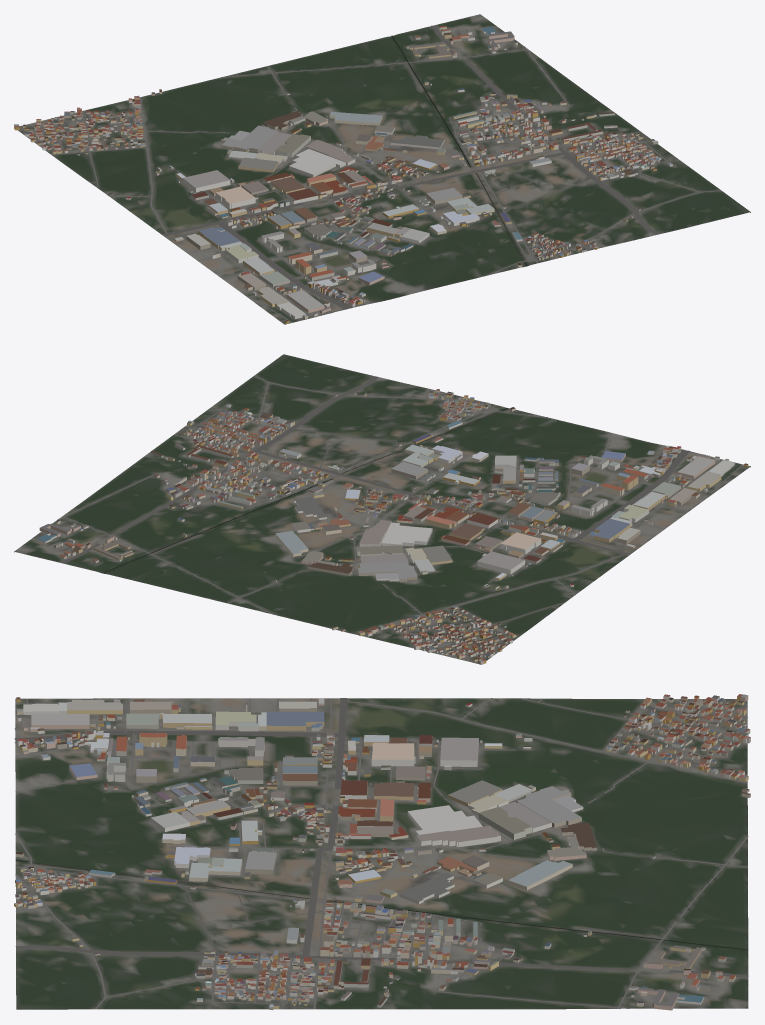
3 views of the same model, one above another, from view 1: azimuth 30°, elevation 25°; view 2: azimuth 150°, elevation 25°; view 3: azimuth 270°, elevation 25° (orthographic). The views are drawn at different scales.
Visible parts, largest first — view 1: ground, buildings, roads; view 2: ground, buildings, roads, water; view 3: ground, buildings, roads, water.
Part boxes in pixels (left/top/right/bottom): ground: left=14, top=14, right=750, bottom=324; buildings: left=14, top=25, right=672, bottom=323; roads: left=21, top=25, right=721, bottom=322; ground: left=14, top=354, right=750, bottom=664; buildings: left=37, top=389, right=748, bottom=664; roads: left=57, top=375, right=746, bottom=662; water: left=102, top=408, right=507, bottom=573; ground: left=15, top=698, right=748, bottom=1009; buildings: left=14, top=694, right=750, bottom=1010; roads: left=14, top=698, right=748, bottom=1009; water: left=15, top=860, right=747, bottom=950.
Bounding box in the file's own units: 1412 × 28.18 × 1411.
